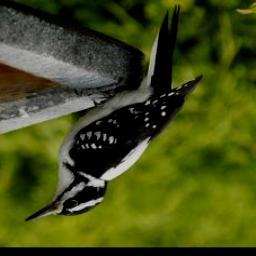Woodpecker: (23, 3, 202, 229)
